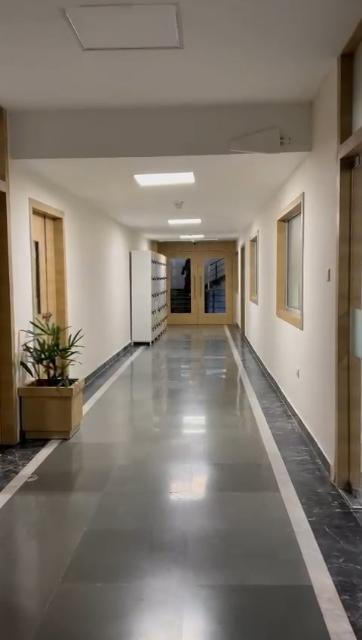door: (169, 239, 239, 325), (24, 198, 66, 314)
floor: (4, 328, 362, 640)
object: (14, 315, 84, 447)
wall: (64, 198, 126, 348), (305, 184, 333, 438), (257, 202, 279, 356)
